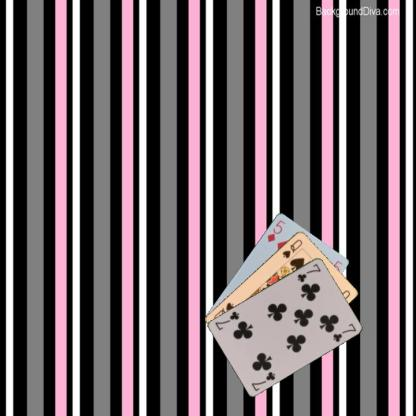5d: (264, 217, 286, 243)
7c: (249, 369, 277, 392), (294, 261, 322, 283)
Qs: (280, 236, 304, 260)
